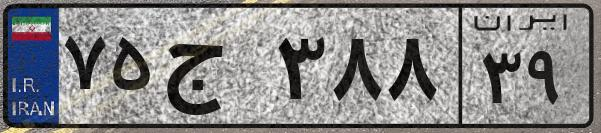3: (270, 28, 330, 110), (475, 38, 525, 113)
5: (110, 28, 158, 98)
7: (57, 26, 110, 100)
8: (385, 28, 445, 110), (330, 28, 385, 110)
9: (525, 38, 570, 115)
ج: (158, 20, 270, 120)
